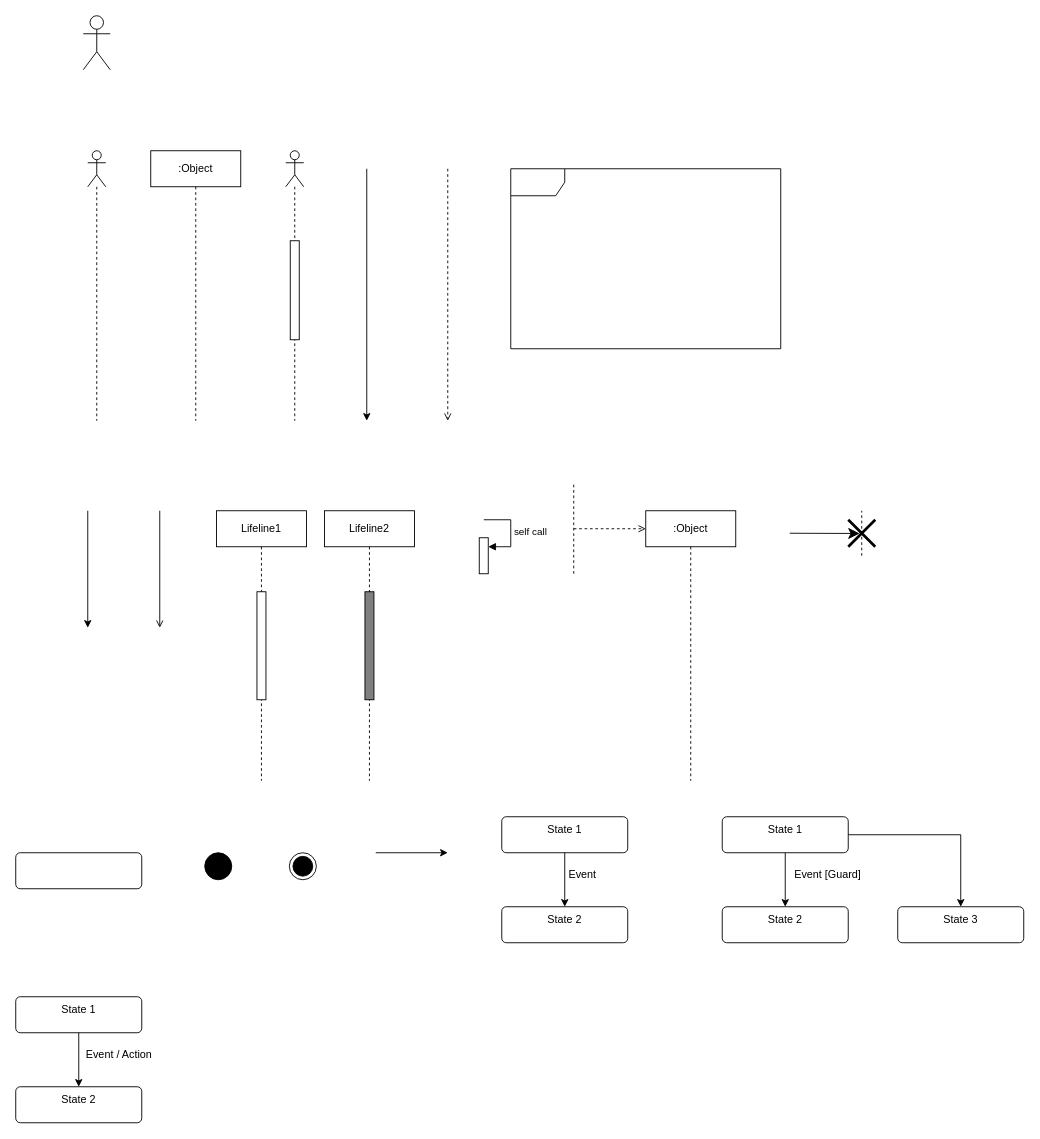
The diagram is 1040 pixels wide and 1139 high, and some of its shapes have lost their labels. Each missing label, with the box of its shape:
frame: (510, 168, 781, 349)
State: (15, 852, 142, 889)
Tác nhân: (82, 15, 110, 70)
